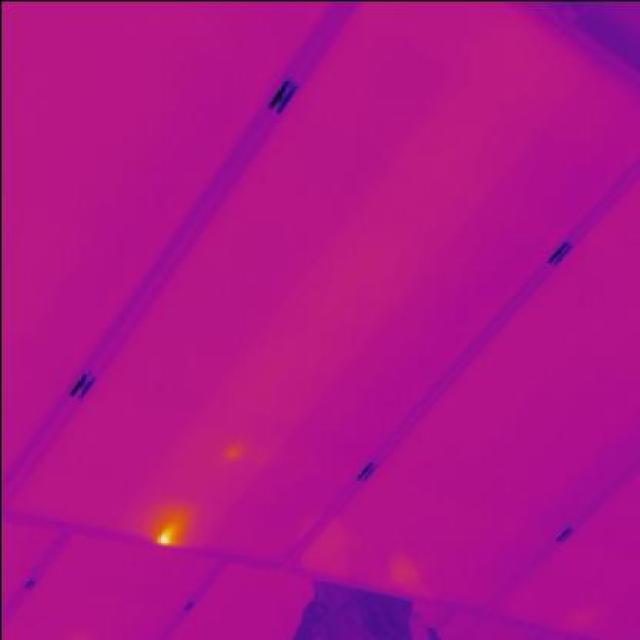hotspot: (138, 507, 194, 550)
